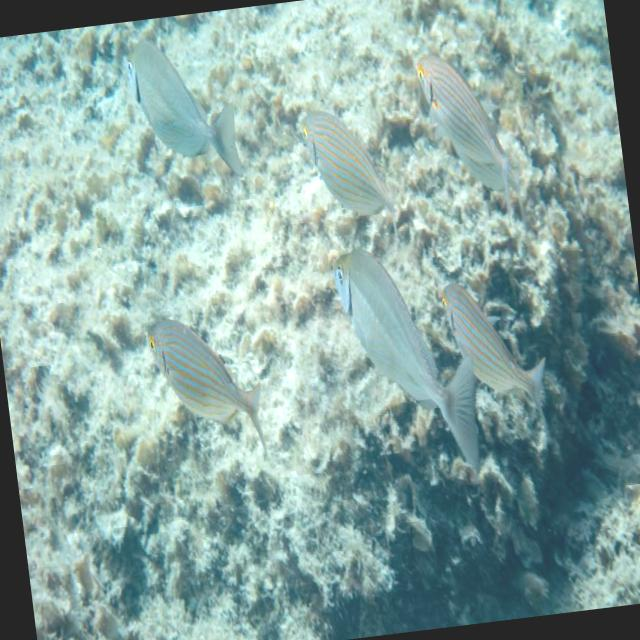Sokar Baligi: (108, 12, 258, 204), (432, 253, 560, 462), (136, 292, 280, 476), (404, 23, 534, 222), (283, 74, 415, 256)
